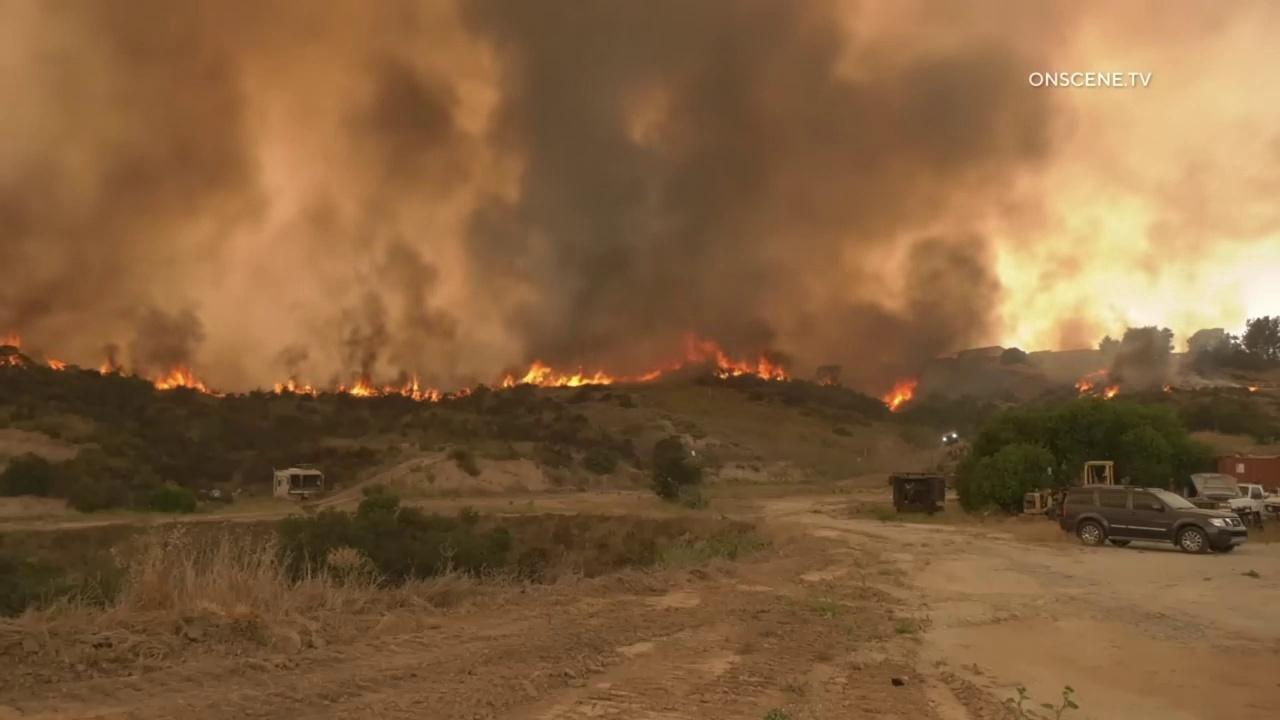fire: (672, 330, 784, 382), (516, 359, 661, 387), (348, 369, 443, 403), (152, 367, 226, 398), (1074, 368, 1120, 400), (879, 377, 918, 413), (287, 379, 320, 399), (448, 386, 471, 401), (0, 335, 20, 349), (48, 359, 67, 371), (9, 354, 24, 367), (502, 374, 514, 389), (99, 365, 111, 376), (274, 383, 284, 396), (1162, 385, 1172, 393), (1248, 387, 1258, 392), (339, 385, 345, 392), (119, 372, 126, 377), (0, 360, 5, 366)
smoke: (0, 0, 1280, 397)
